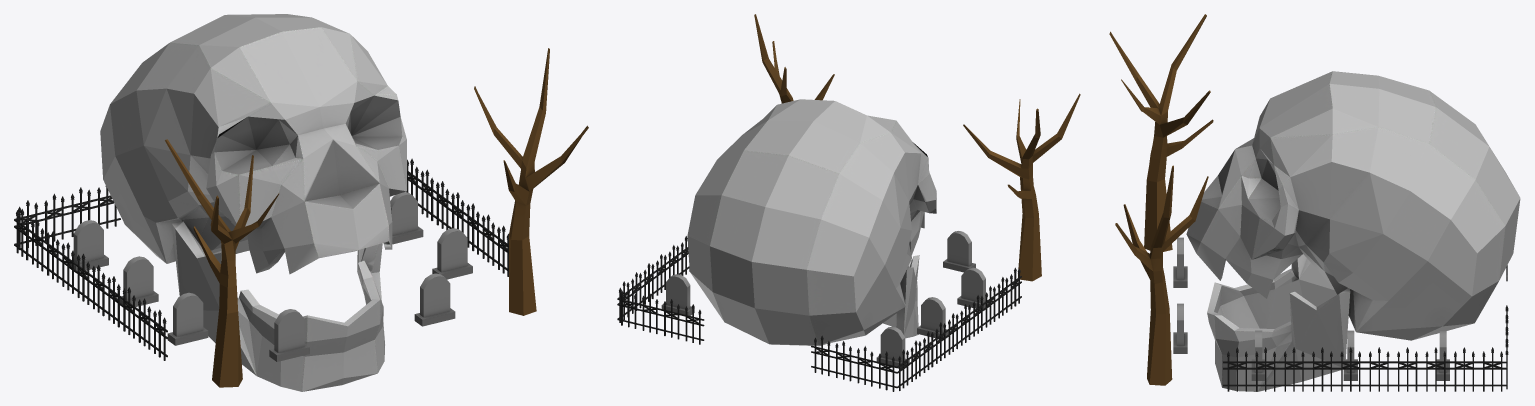
File: Barrack.fbx
The picture shows the model from 3 angles, left to right: view 1: azimuth 30°, elevation 25°; view 2: azimuth 150°, elevation 25°; view 3: azimuth 270°, elevation 25°; orthographic projection. The views are drawn at different scales.
Parts seen in each view (by area): view 1: Skull, Grave, Barrack_Fence, Barrack_Tree_R, Barrack_Tree_L; view 2: Skull, Barrack_Fence, Grave, Barrack_Tree_L, Barrack_Tree_R; view 3: Skull, Barrack_Fence, Barrack_Tree_R, Barrack_Tree_L, Grave.
Part boxes in pixels (x1,y1,x2,y2): Skull: (100,14,406,391); Grave: (69,192,472,361); Barrack_Fence: (14,158,508,360); Barrack_Tree_R: (474,48,588,315); Barrack_Tree_L: (165,139,279,387); Skull: (687,99,936,346); Barrack_Fence: (617,236,1021,391); Grave: (661,231,989,368); Barrack_Tree_L: (963,93,1080,281); Barrack_Tree_R: (754,14,834,103); Skull: (1186,71,1520,391); Barrack_Fence: (1223,265,1508,391); Barrack_Tree_R: (1115,165,1208,385); Barrack_Tree_L: (1109,14,1213,251); Grave: (1173,237,1449,380).
Size of the model in its own units: 1421 by 1126 by 1449.
